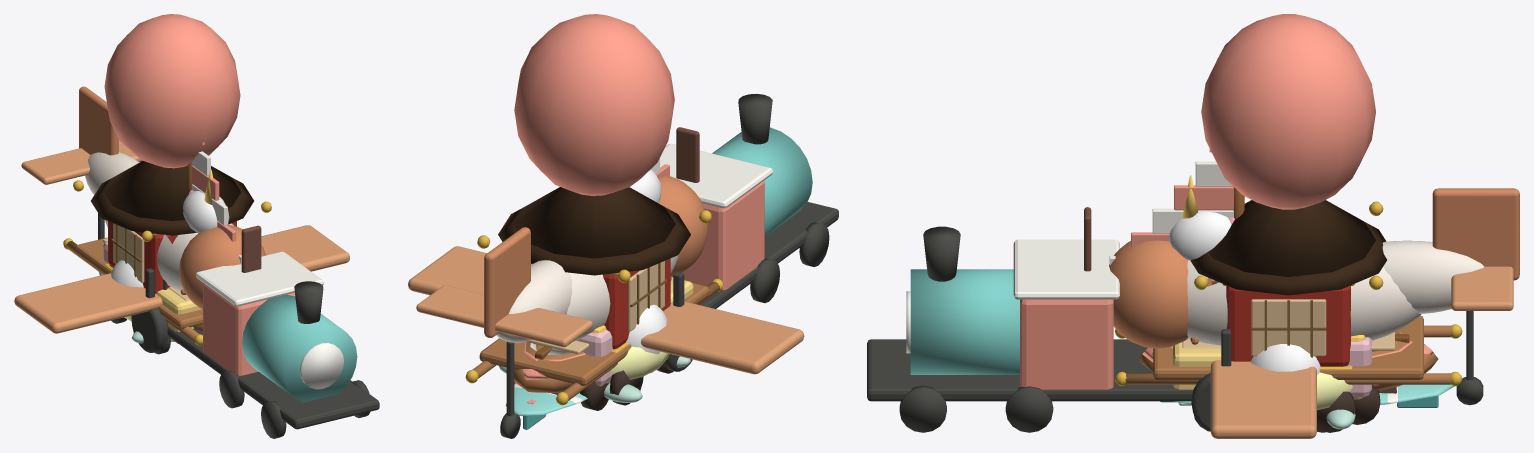
File: mounts.glb
3 renders of one model, left to right at view 1: azimuth 30°, elevation 25°; view 2: azimuth 150°, elevation 25°; view 3: azimuth 270°, elevation 25°, orthographic. The views are drawn at different scales.
Parts seen in each view (by area): view 1: Sphere.006, wing, Cylinder.040, Cone.002, Cube.058, Cube.057, Cube.056, nose, Cone.001, fin, stab, Cylinder.041 (+15 smaller); view 2: Sphere.006, wing, Cone.002, Cube.056, Cylinder.040, stab, fin, Cone.001, Cube.057, Cube.013, Cube.058, tailcone (+20 smaller); view 3: Sphere.006, Cylinder.040, Cone.002, Cube.056, Cube.058, wing, nose, fin, Cube.057, fuselage, tailcone, Cube.014 (+22 smaller).
Boxes of the visible parts, <box> form: Sphere.006: <box>104,14,240,168</box>; wing: <box>14,225,349,333</box>; Cylinder.040: <box>242,294,357,402</box>; Cone.002: <box>104,161,240,220</box>; Cube.058: <box>167,326,379,429</box>; Cube.057: <box>195,251,323,306</box>; Cube.056: <box>203,283,295,375</box>; nose: <box>179,225,265,309</box>; Cone.001: <box>91,178,253,235</box>; fin: <box>79,86,118,155</box>; stab: <box>21,139,142,184</box>; Cylinder.041: <box>300,342,343,389</box>; Sphere.006: <box>514,14,674,195</box>; wing: <box>408,246,804,374</box>; Cone.002: <box>513,187,675,258</box>; Cube.056: <box>672,181,764,290</box>; Cylinder.040: <box>712,127,812,236</box>; stab: <box>416,285,592,347</box>; fin: <box>484,227,530,337</box>; Cone.001: <box>498,207,690,275</box>; Cube.057: <box>660,143,773,208</box>; Cube.013: <box>479,283,709,385</box>; Cube.058: <box>700,202,838,308</box>; tailcone: <box>496,260,571,342</box>; Sphere.006: <box>1201,14,1375,209</box>; Cylinder.040: <box>910,269,1019,374</box>; Cone.002: <box>1208,200,1375,276</box>; Cube.056: <box>1020,299,1113,389</box>; Cube.058: <box>867,339,1192,401</box>; wing: <box>1210,360,1316,438</box>; nose: <box>1109,240,1212,348</box>; fin: <box>1432,188,1519,280</box>; Cube.057: <box>1013,239,1119,299</box>; fuselage: <box>1187,260,1421,345</box>; tailcone: <box>1382,240,1483,313</box>; Cube.014: <box>1226,286,1350,366</box>.
Size of the model in its own units: 2.1 by 2.05 by 3.14.
